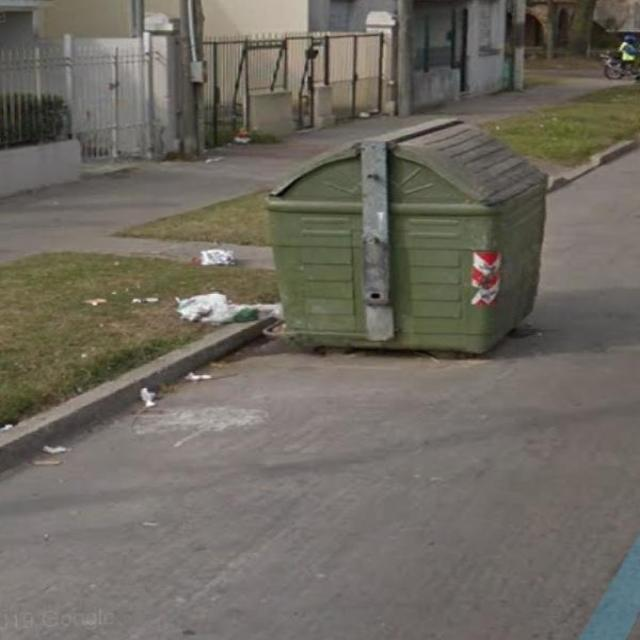garbage: (164, 288, 282, 324), (180, 230, 236, 274), (26, 442, 82, 484), (170, 362, 213, 392), (118, 378, 156, 408), (67, 292, 116, 313), (130, 284, 158, 312)
